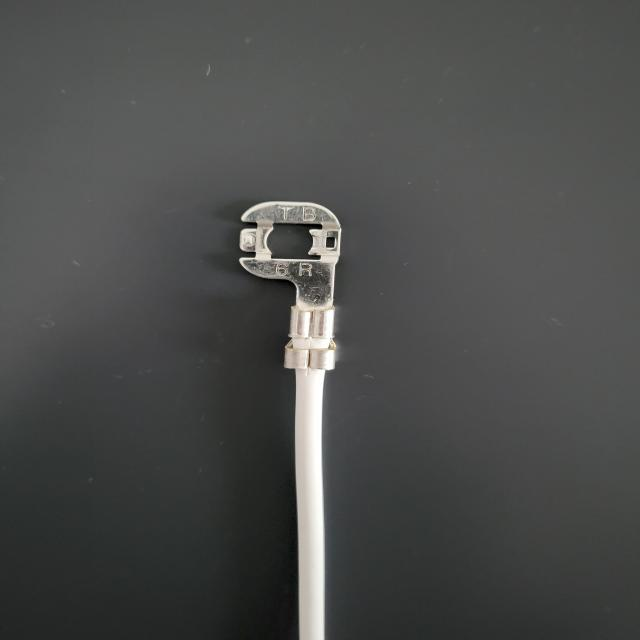defect: (239, 285, 395, 398)
